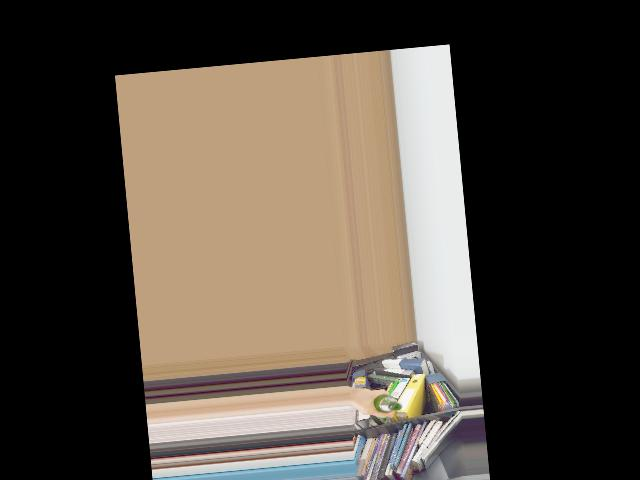beer: (372, 392, 401, 413)
